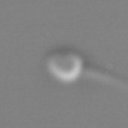normal: (81, 61, 128, 94)
